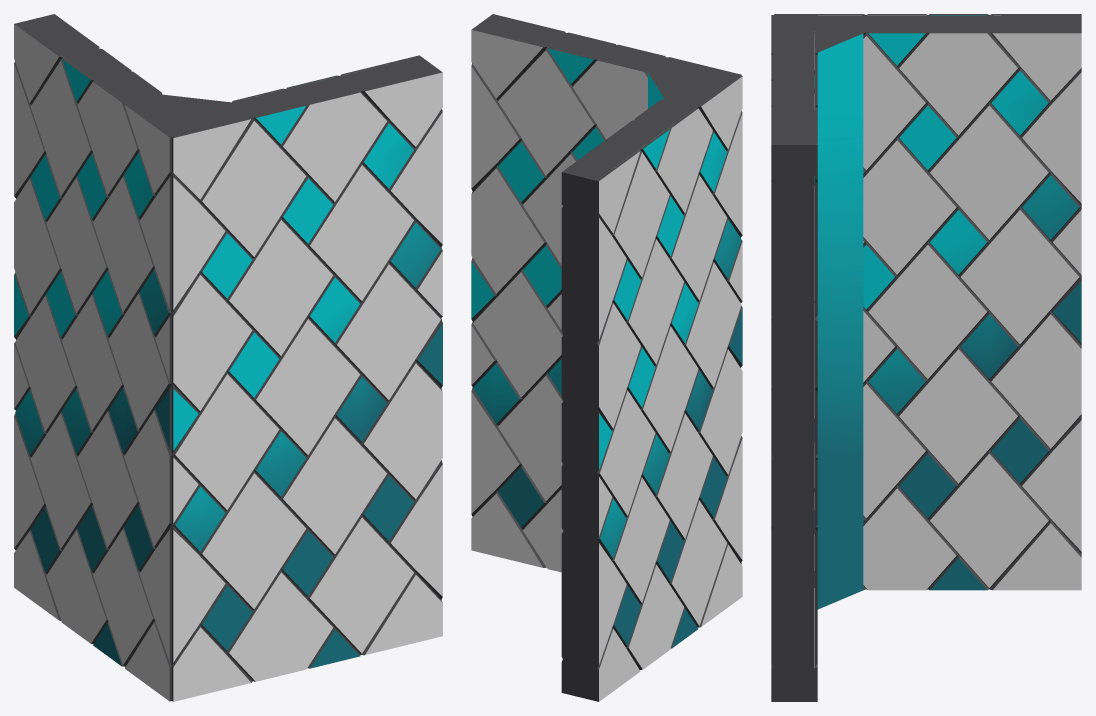
Rendered from TurquoiseTileCorner.glb.
3 renders of one model, left to right at view 1: azimuth 30°, elevation 25°; view 2: azimuth 150°, elevation 25°; view 3: azimuth 270°, elevation 25°, orthographic. The views are drawn at different scales.
Visible parts, largest first — view 1: wall_twoTile_corner; view 2: wall_twoTile_corner; view 3: wall_twoTile_corner.
Boxes of the visible parts, box(x1,y1,x2,y2) form: wall_twoTile_corner: box(14, 14, 442, 701); wall_twoTile_corner: box(471, 14, 742, 701); wall_twoTile_corner: box(771, 14, 1081, 701).
Size of what is drawn, in the model's own units: 2.02 by 4 by 2.02.
1 material, 1 textured.
